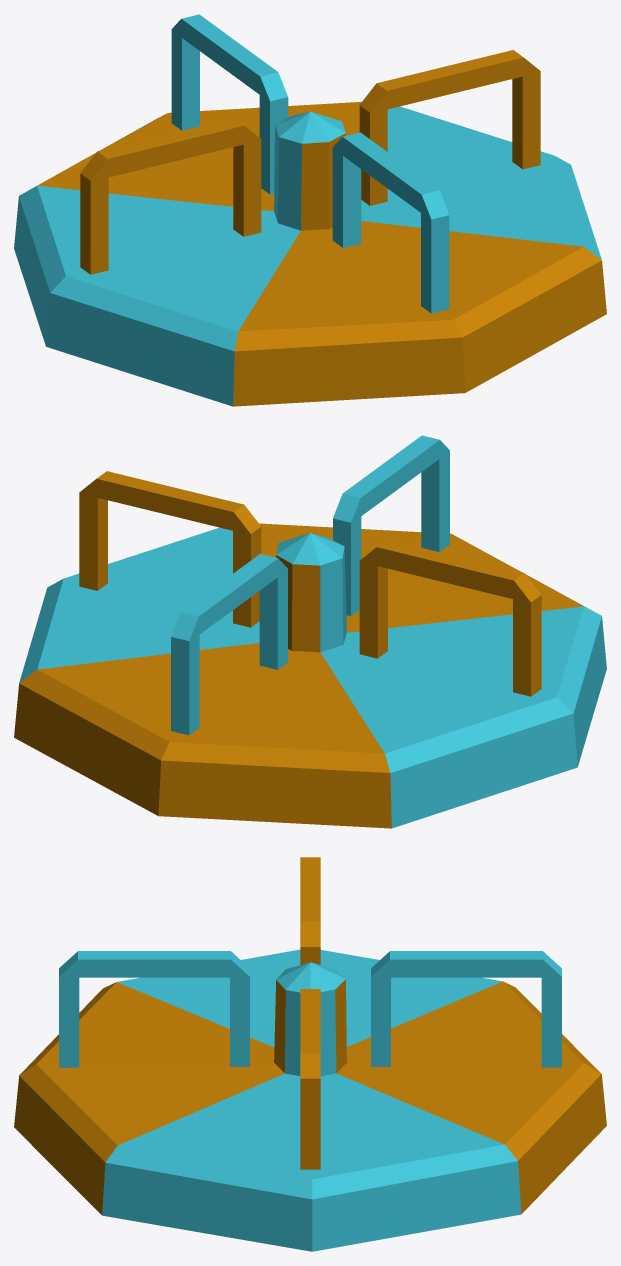
Rendered from Child Swing 1.fbx.
The picture shows the model from 3 angles, top to bottom: view 1: azimuth 30°, elevation 25°; view 2: azimuth 150°, elevation 25°; view 3: azimuth 270°, elevation 25°; orthographic projection. The views are drawn at different scales.
Parts seen in each view (by area): view 1: Child_Swing_01; view 2: Child_Swing_01; view 3: Child_Swing_01.
Boxes of the visible parts, <box> form: Child_Swing_01: <box>14,14,606,406</box>; Child_Swing_01: <box>14,435,606,828</box>; Child_Swing_01: <box>14,857,606,1251</box>.
Bounding box in the file's own units: 132 × 55.72 × 132.
